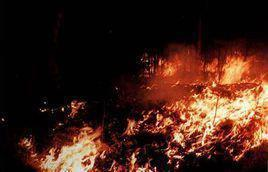fire: (137, 42, 266, 168), (10, 106, 134, 170)
